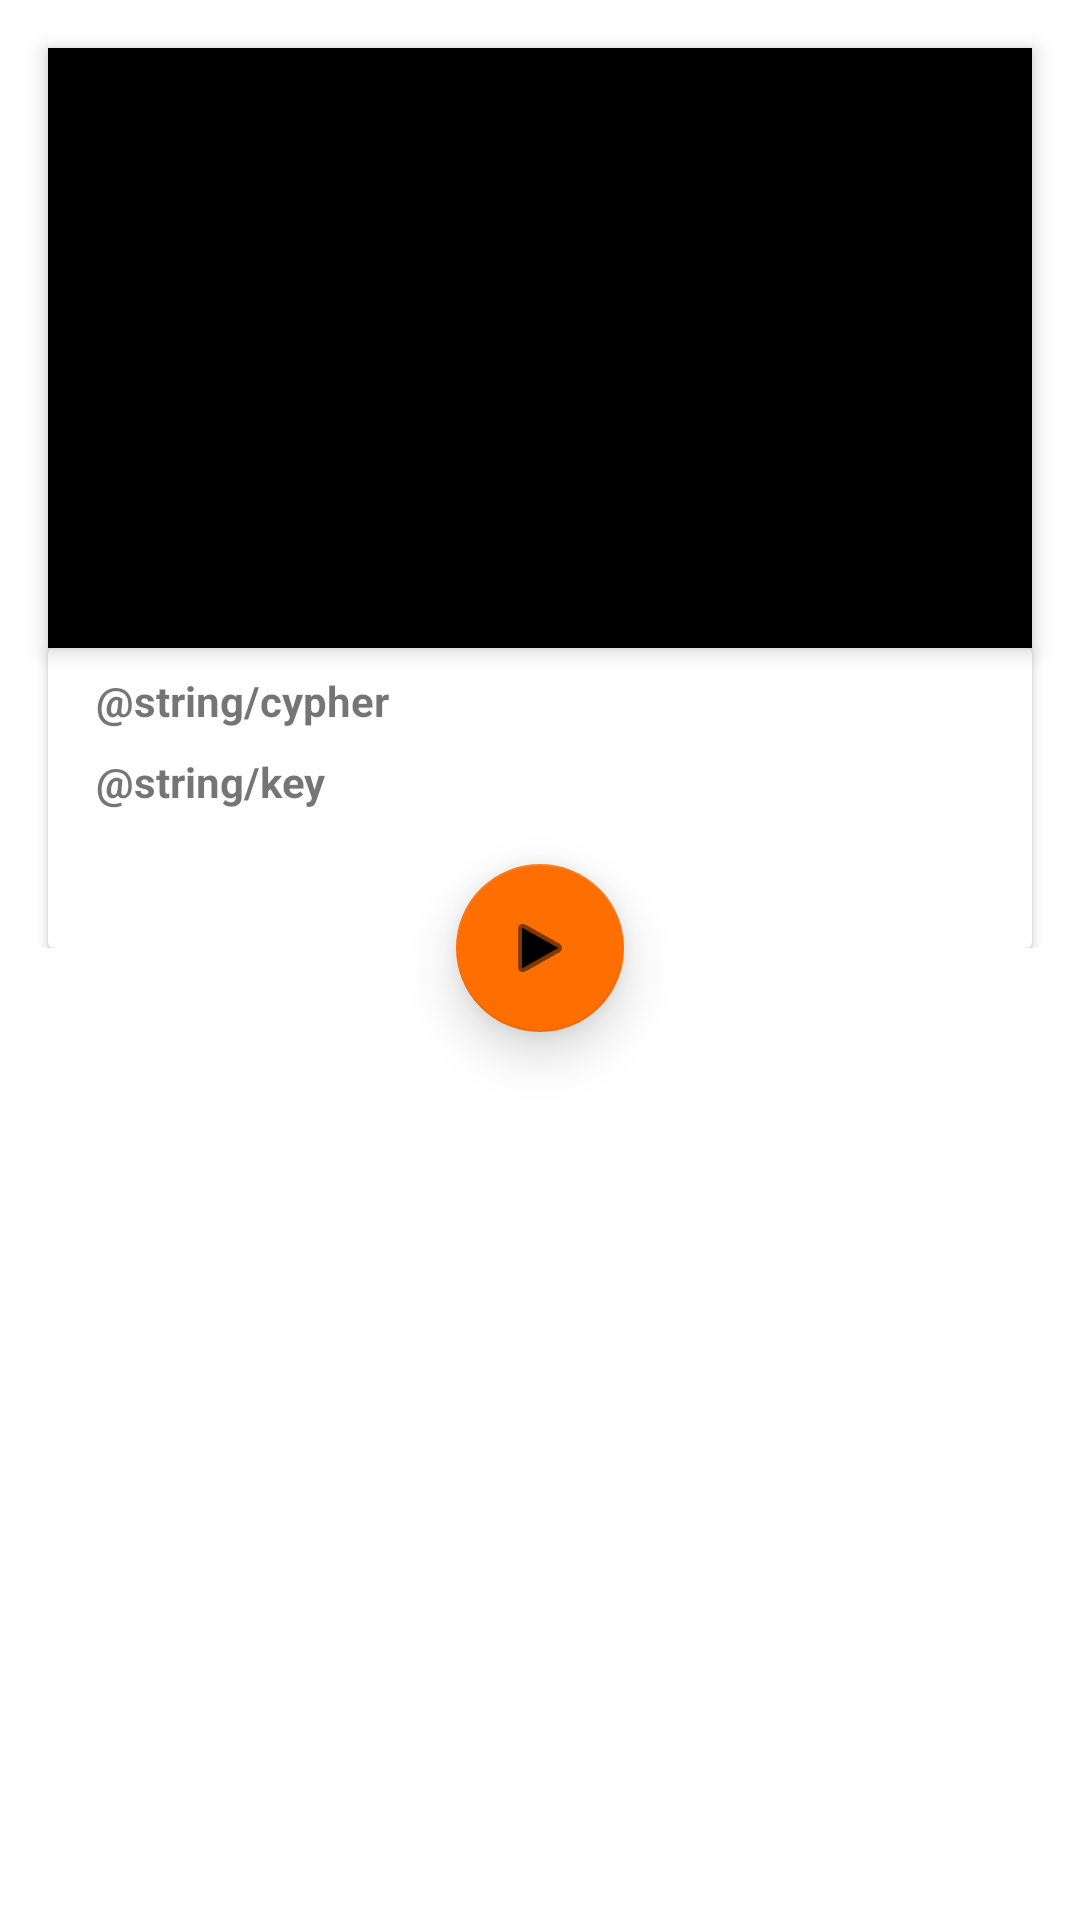

Point at icon controls on the screen. Image size 1080x1920, points as (x,y).
play: (540,948)
